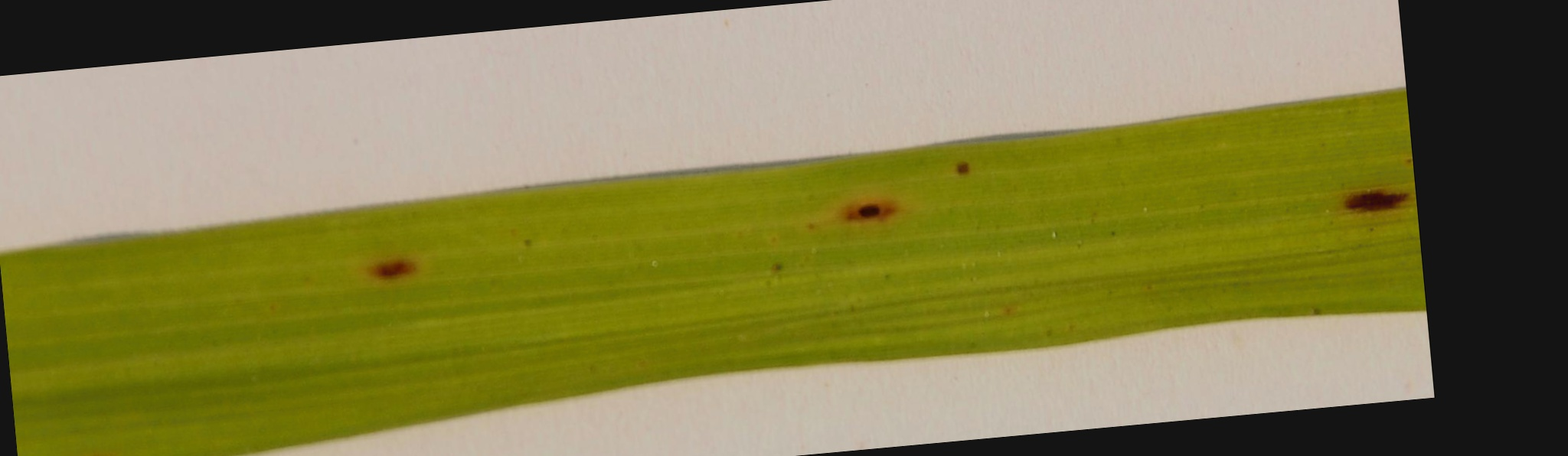Bacterial_Leaf_Blight: (339, 242, 443, 287), (811, 194, 928, 230), (1331, 177, 1416, 223), (951, 154, 980, 189)
